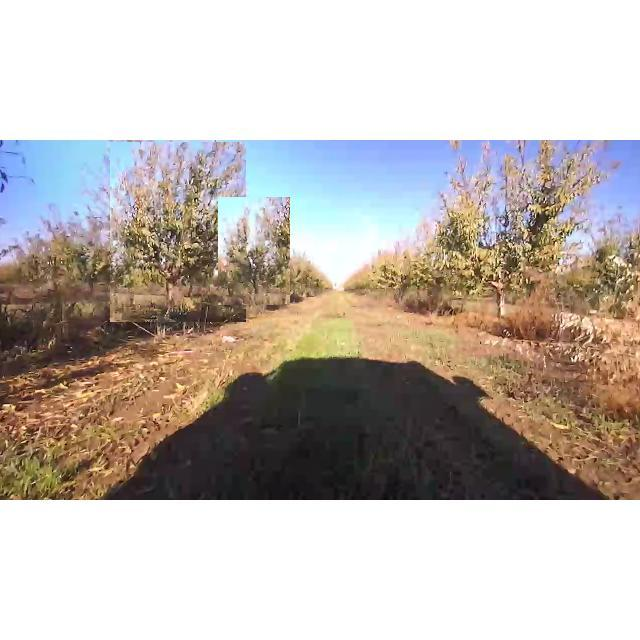direk: (426, 140, 622, 330), (110, 142, 246, 322), (218, 197, 290, 305)
